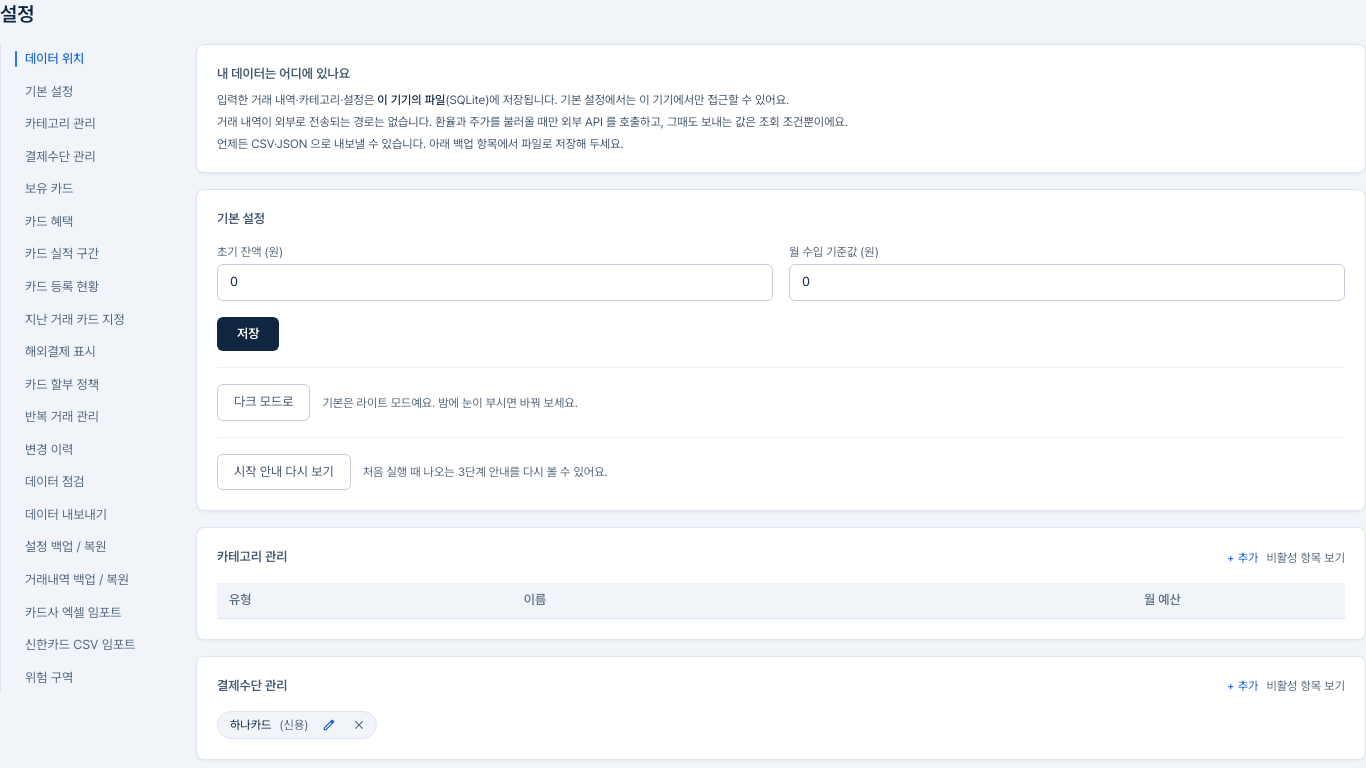
Test: 재활성화 › 취소하면 보내지 않는다
Click the 2nd button "비활성 항목 보기": (1306, 686) [1266,678,1345,694]
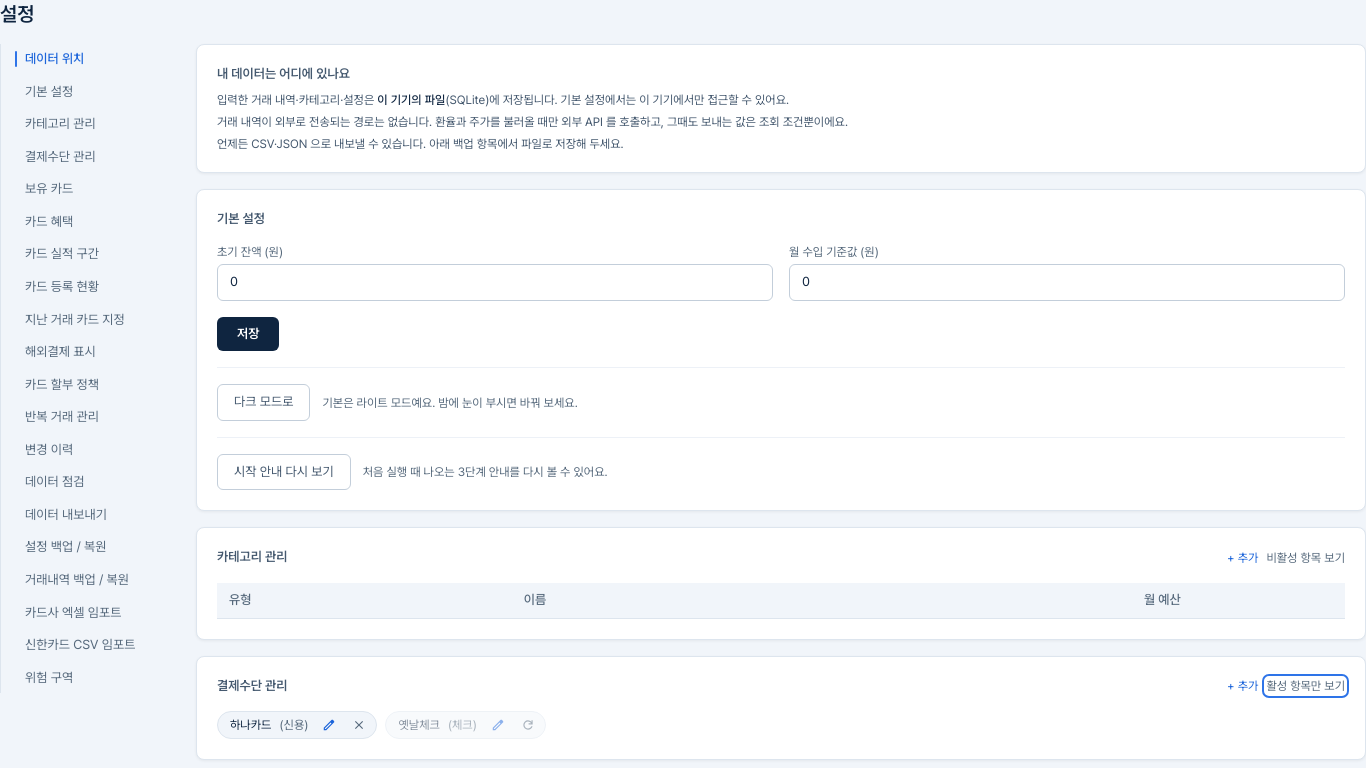
Click the button named "재활성화": (528, 725) [515,716,541,734]
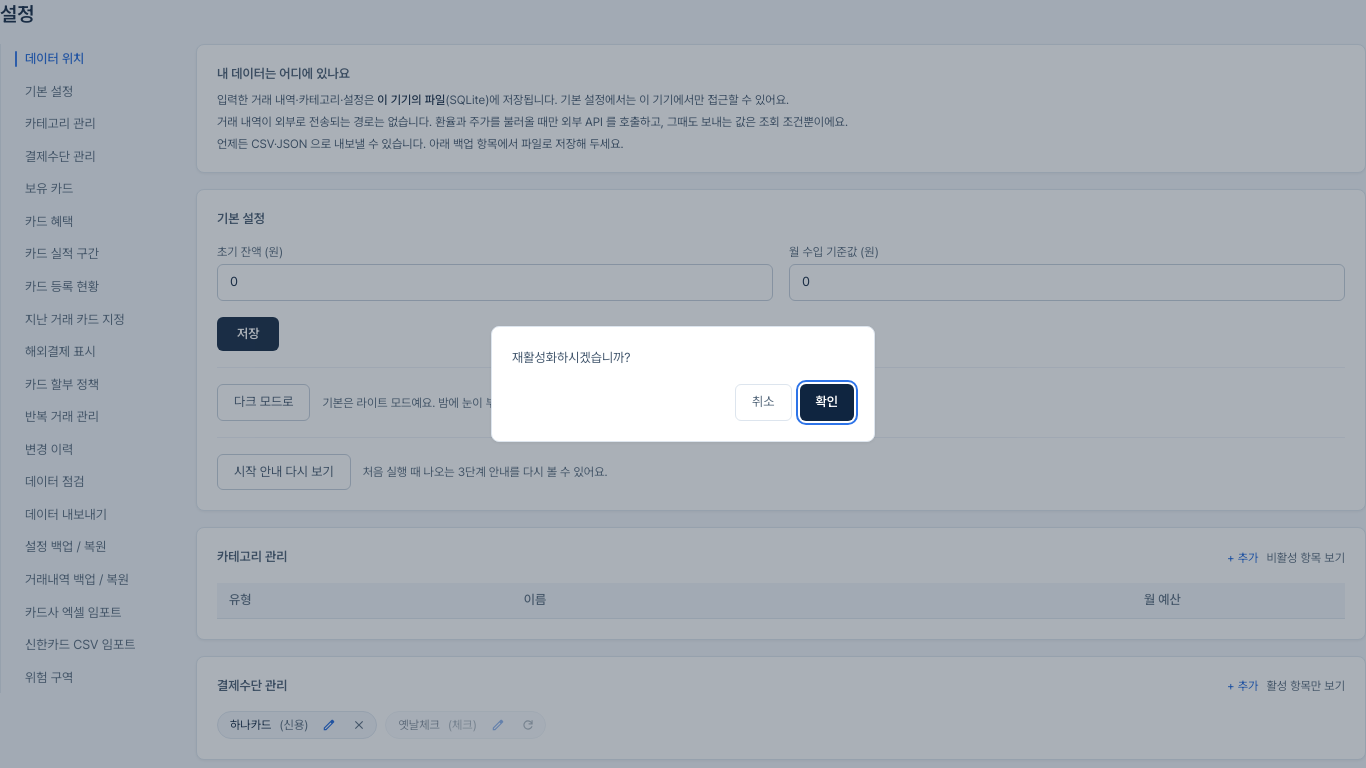
Click the button "취소": (763, 403) [735,384,792,421]
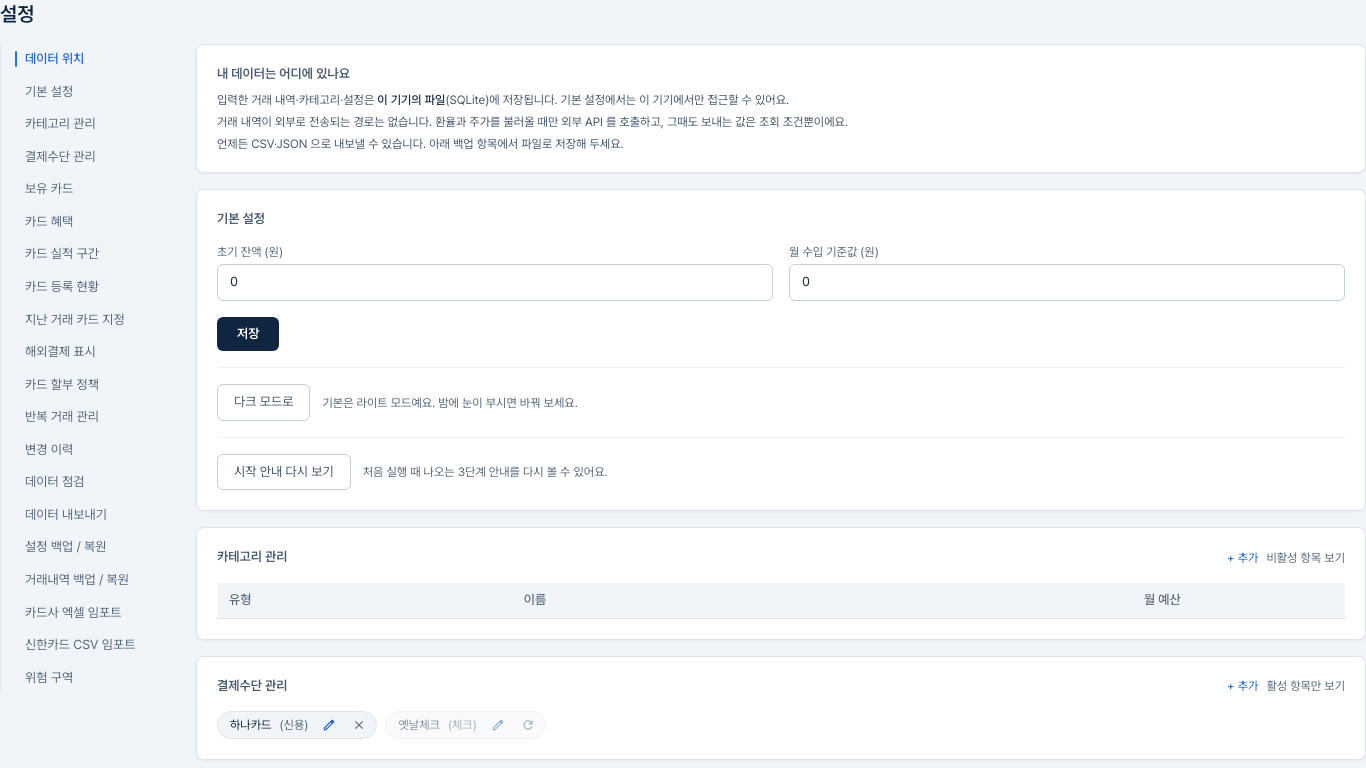
Expected: the dialog is gone
